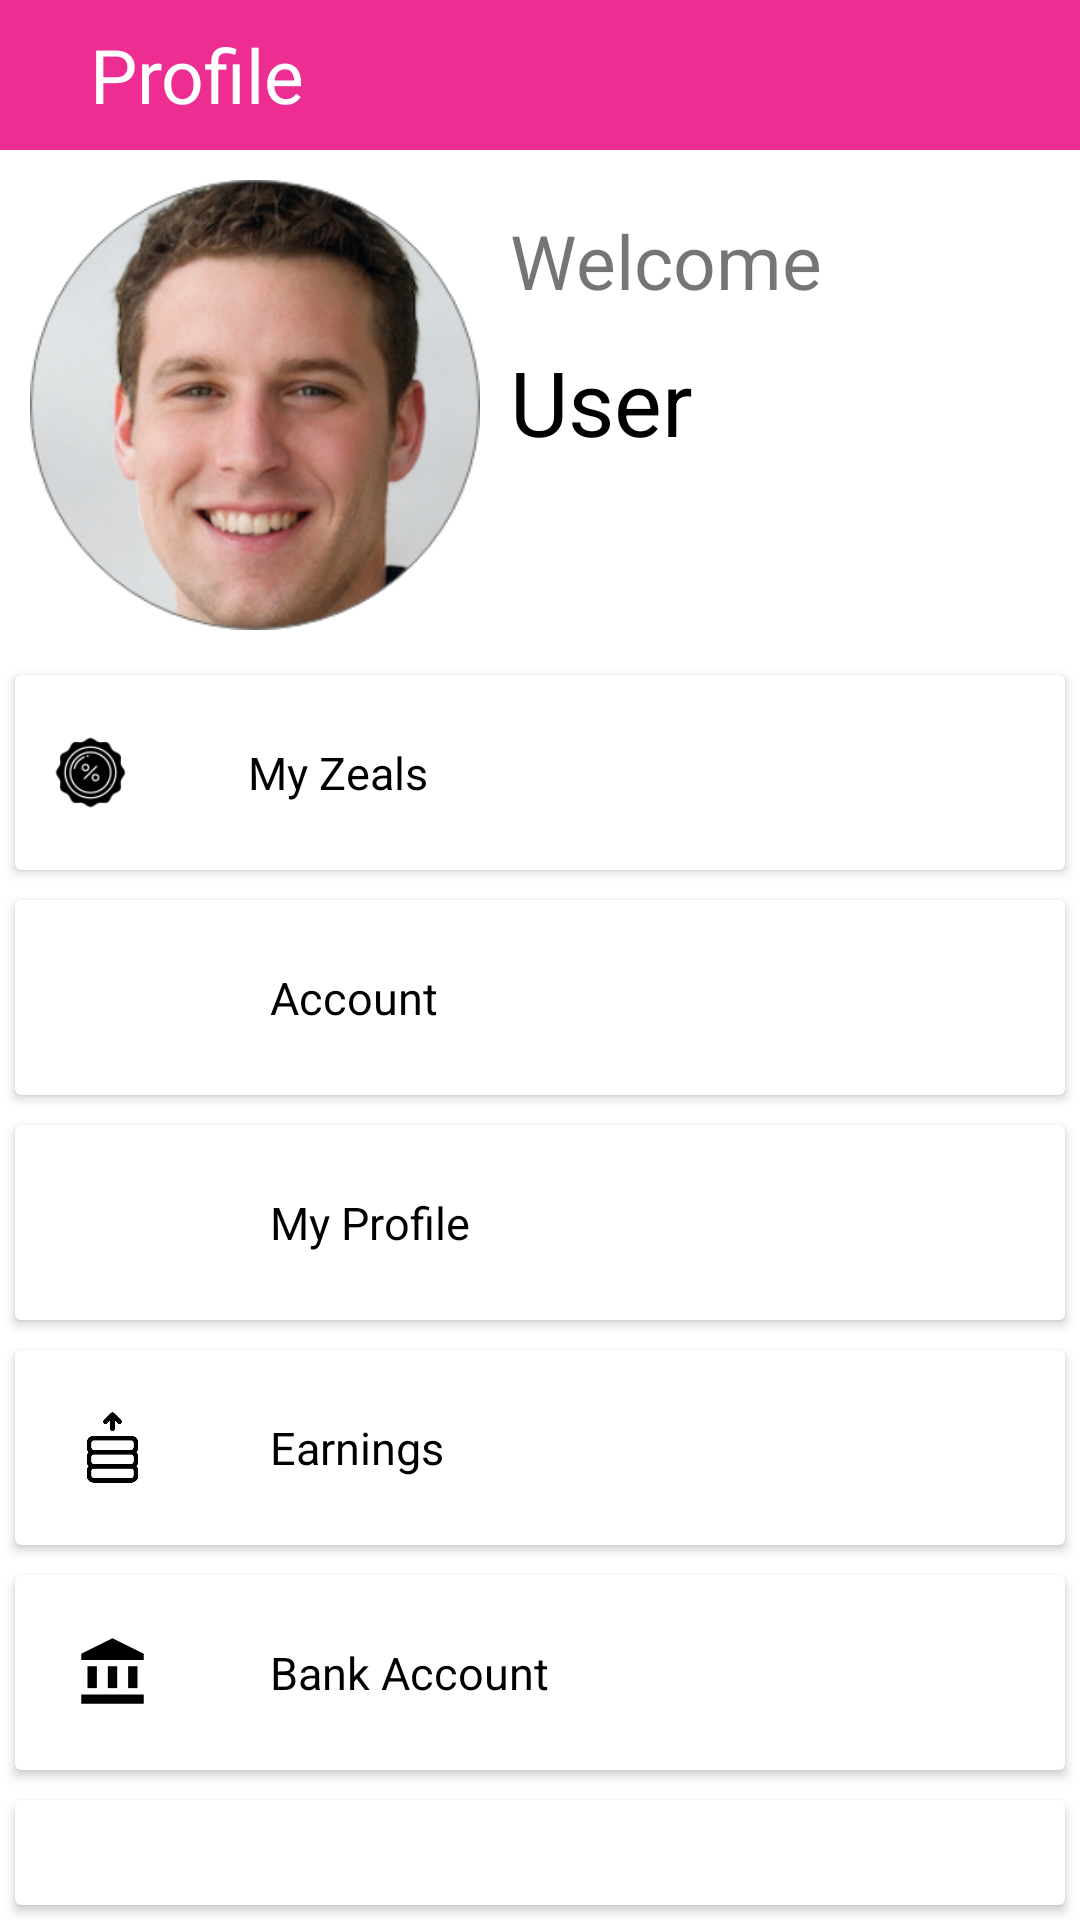

Icon click points for this 1080 × 1920 phone screenshot, format (x,y):
bank accout: (112,1671)
offer: (90,772)
